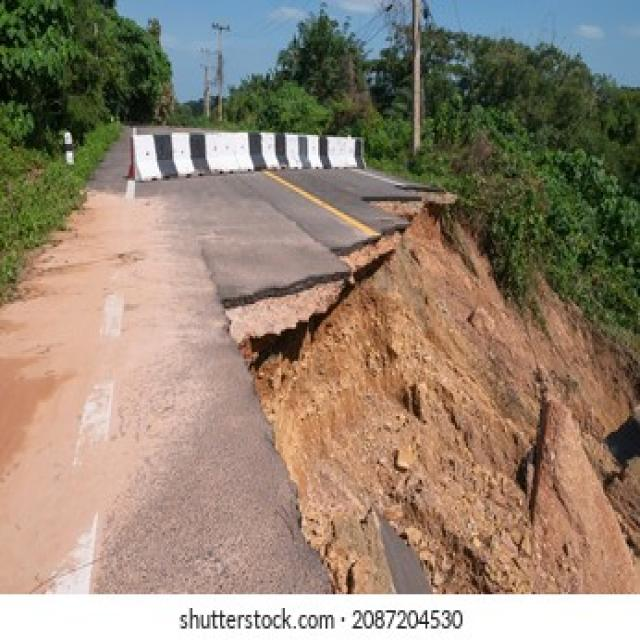road collapse: (142, 116, 640, 596)
